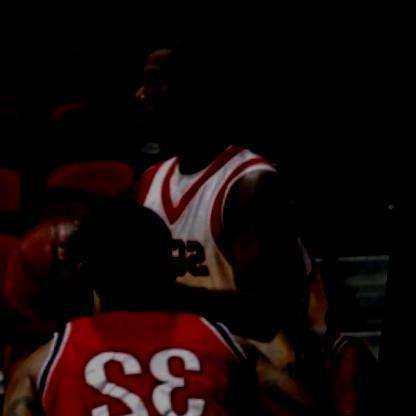basketball: (3, 212, 112, 333)
